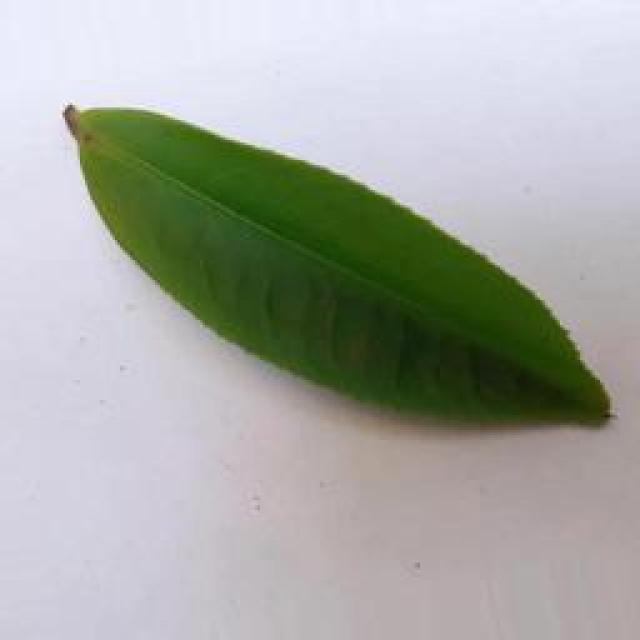Healthy: (57, 95, 618, 432)
